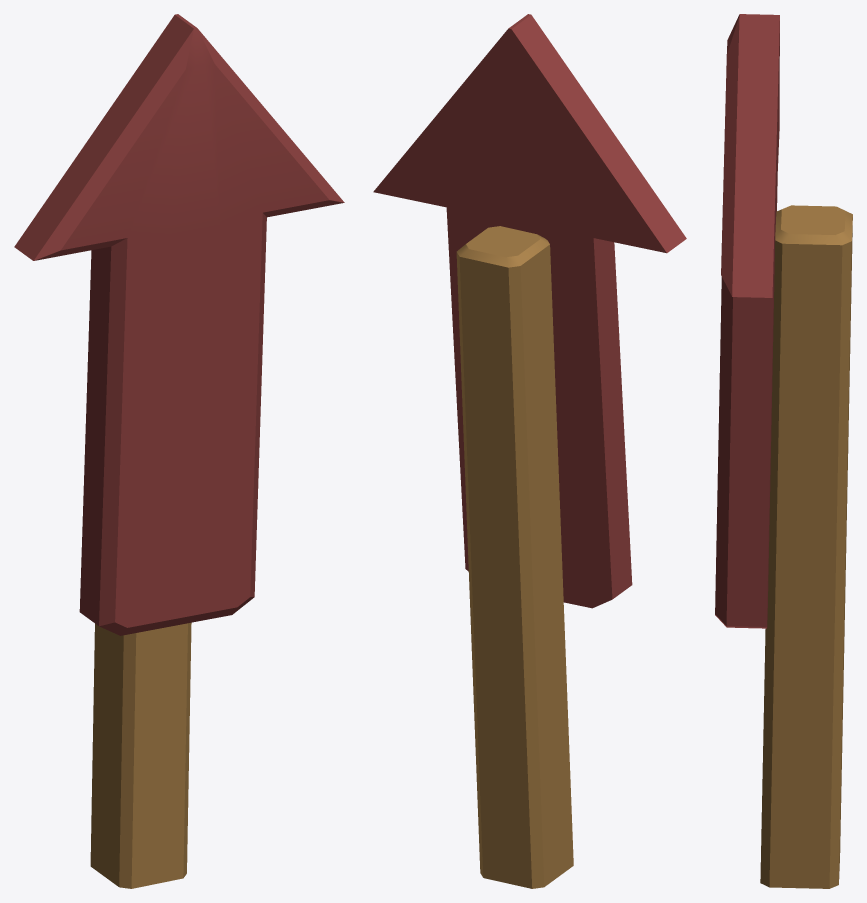
The model's file is Arrow_Up.001.fbx.
The picture shows the model from 3 angles, left to right: view 1: azimuth 30°, elevation 25°; view 2: azimuth 150°, elevation 25°; view 3: azimuth 270°, elevation 25°; orthographic projection. The views are drawn at different scales.
Parts seen in each view (by area): view 1: Arrow_Up.001; view 2: Arrow_Up.001; view 3: Arrow_Up.001.
Boxes of the visible parts, x1,y1,x2,y2 form: Arrow_Up.001: (14,14,344,888); Arrow_Up.001: (373,14,686,888); Arrow_Up.001: (715,14,852,888).
Bounding box in the file's own units: 102 × 271 × 38.88.
